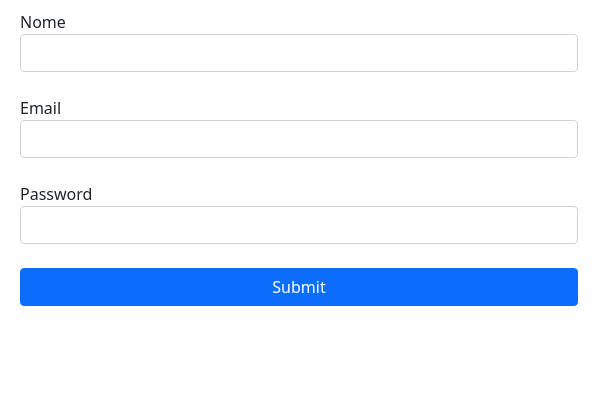
App: Signup Form › Should display min length error when password is invalid
Type "p10" into the password field labelled "Password".
click(299, 225); type("p10")  # box [20,206,578,244]
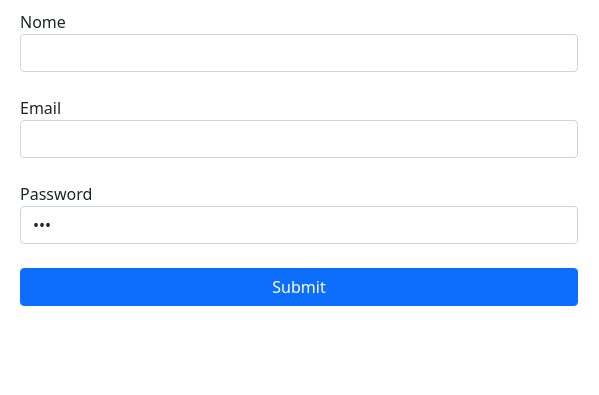
Submit the form from the button "Submit", box [20,268,578,306]
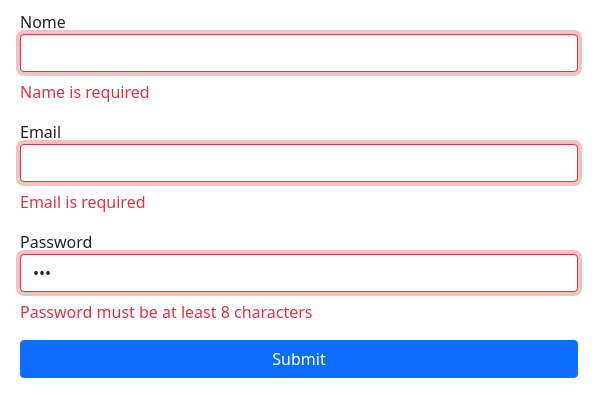
Expected: the text "Password must be at least 8 characters" is shown, [20,301,312,323]
